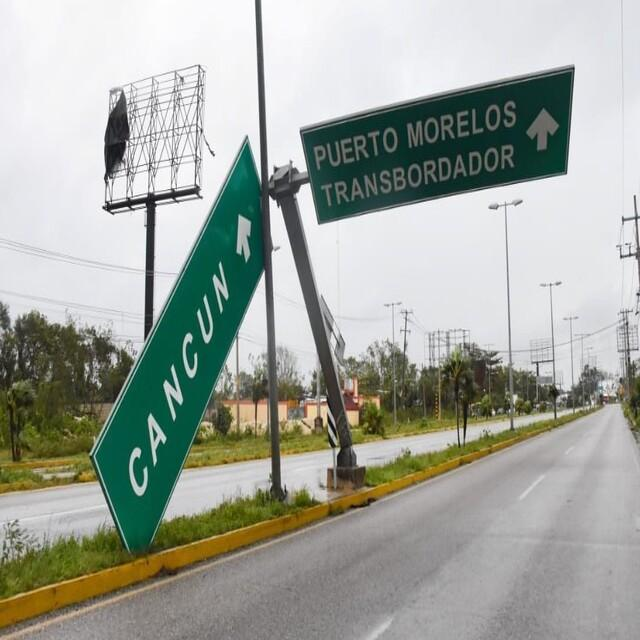Inclined Pole: (86, 62, 585, 567)
